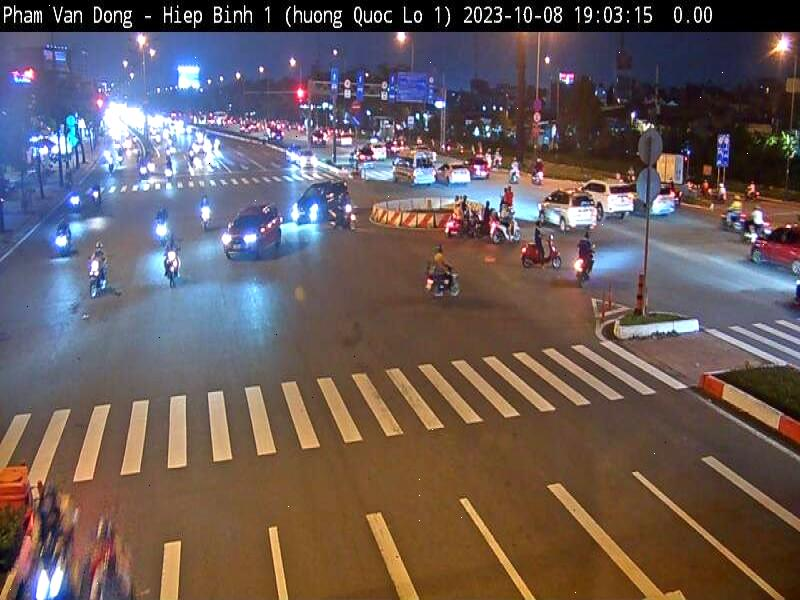car: (216, 192, 286, 284), (573, 170, 634, 228), (532, 182, 594, 238), (430, 155, 473, 198)
motorcycle: (409, 256, 469, 308), (507, 234, 571, 281)
